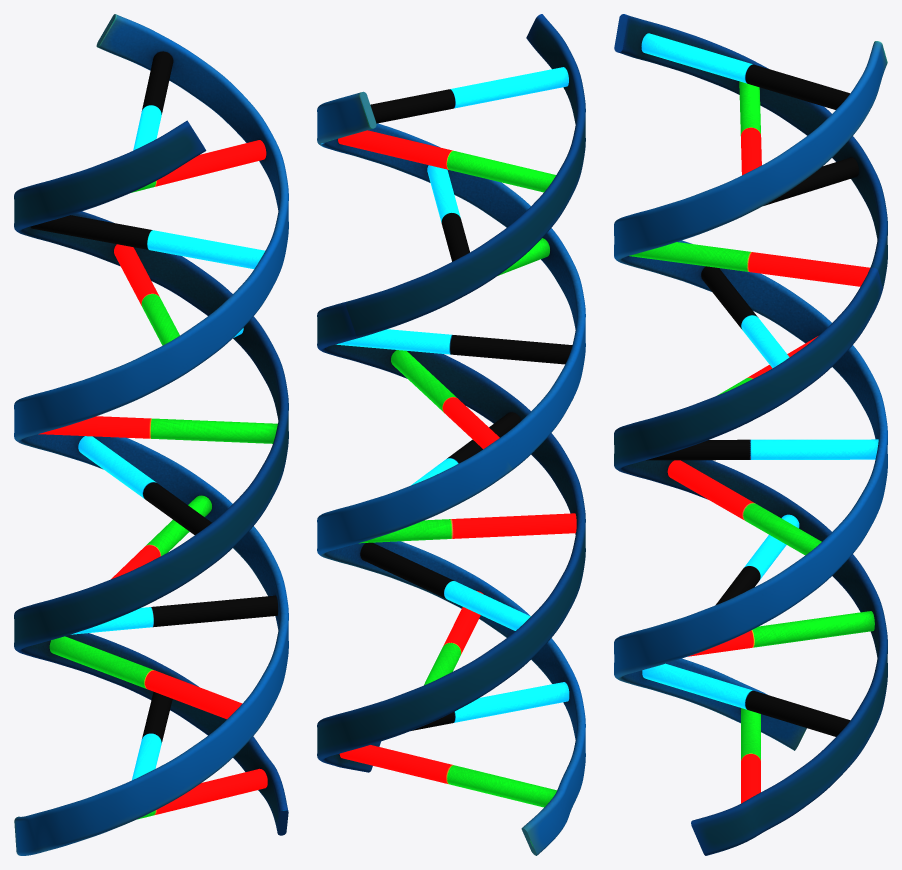
Rendered from DNAHelix.glb.
3 renders of one model, left to right at view 1: azimuth 30°, elevation 25°; view 2: azimuth 150°, elevation 25°; view 3: azimuth 270°, elevation 25°, orthographic. The views are drawn at different scales.
Visible parts, largest first — view 1: Spiral.008, Spiral.002, Cylinder.010, Cylinder.007, Cylinder.003, Cylinder.004, Cylinder.006, Cylinder.009, Cylinder.011, Cylinder, Cylinder.012, Cylinder.002 (+1 smaller); view 2: Spiral.002, Spiral.008, Cylinder.008, Cylinder.011, Cylinder, Cylinder.012, Cylinder.005, Cylinder.004, Cylinder.007, Cylinder.002, Cylinder.010, Cylinder.003 (+2 smaller); view 3: Spiral.008, Spiral.002, Cylinder.009, Cylinder.012, Cylinder.002, Cylinder.006, Cylinder.005, Cylinder.003, Cylinder.008, Cylinder.011, Cylinder, Cylinder.004 (+1 smaller).
Boxes of the visible parts, x1=… form: Spiral.008: x1=14, y1=14, x2=288, y2=855; Spiral.002: x1=14, y1=120, x2=288, y2=835; Cylinder.010: x1=30, y1=215, x2=264, y2=269; Cylinder.007: x1=38, y1=416, x2=277, y2=443; Cylinder.003: x1=49, y1=636, x2=242, y2=719; Cylinder.004: x1=71, y1=595, x2=277, y2=634; Cylinder.006: x1=78, y1=436, x2=211, y2=534; Cylinder.009: x1=114, y1=244, x2=179, y2=345; Cylinder.011: x1=131, y1=140, x2=266, y2=192; Cylinder: x1=137, y1=768, x2=267, y2=819; Cylinder.012: x1=133, y1=51, x2=173, y2=150; Cylinder.002: x1=131, y1=692, x2=172, y2=780; Spiral.002: x1=317, y1=14, x2=585, y2=772; Spiral.008: x1=317, y1=91, x2=585, y2=855; Cylinder.008: x1=336, y1=329, x2=572, y2=364; Cylinder.011: x1=338, y1=130, x2=555, y2=192; Cylinder: x1=339, y1=745, x2=556, y2=807; Cylinder.012: x1=370, y1=67, x2=568, y2=123; Cylinder.005: x1=359, y1=513, x2=576, y2=543; Cylinder.004: x1=360, y1=542, x2=530, y2=630; Cylinder.007: x1=391, y1=350, x2=499, y2=449; Cylinder.002: x1=411, y1=682, x2=569, y2=730; Cylinder.010: x1=427, y1=165, x2=469, y2=261; Cylinder.003: x1=424, y1=591, x2=483, y2=685; Spiral.008: x1=614, y1=41, x2=887, y2=750; Spiral.002: x1=614, y1=14, x2=887, y2=855; Cylinder.009: x1=629, y1=242, x2=869, y2=286; Cylinder.012: x1=641, y1=33, x2=849, y2=109; Cylinder.002: x1=642, y1=663, x2=850, y2=736; Cylinder.006: x1=646, y1=439, x2=878, y2=460; Cylinder.005: x1=667, y1=460, x2=821, y2=555; Cylinder.003: x1=688, y1=611, x2=874, y2=656; Cylinder.008: x1=701, y1=266, x2=789, y2=368; Cylinder.011: x1=739, y1=81, x2=761, y2=175; Cylinder: x1=741, y1=708, x2=760, y2=803; Cylinder.004: x1=715, y1=514, x2=799, y2=605.
Size of the model in its own units: 2.09 by 6.49 by 2.08.
1 material, 1 textured.
